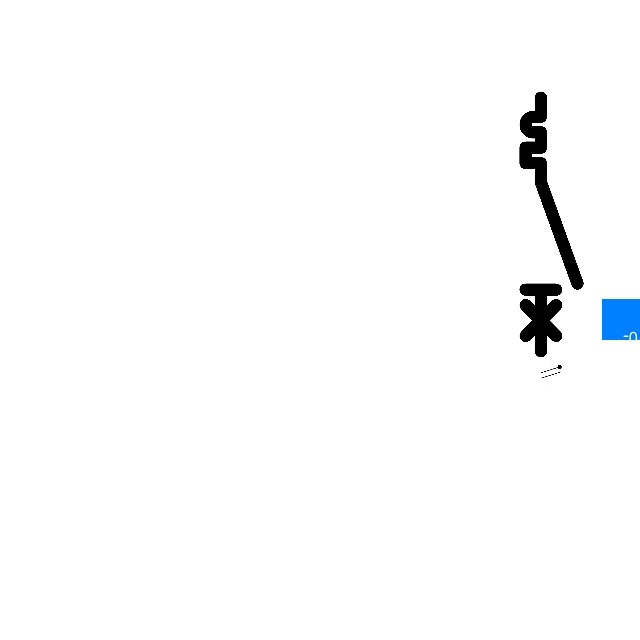interruptor_termomagnetico: (519, 91, 584, 358)
